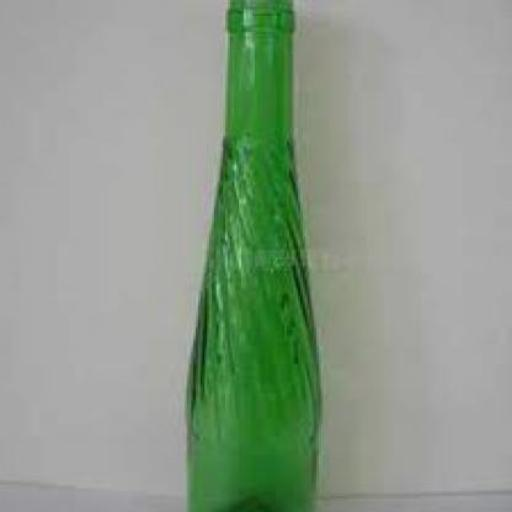glass: (187, 0, 323, 510)
